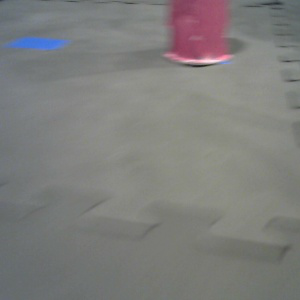Right: (165, 1, 234, 67)
